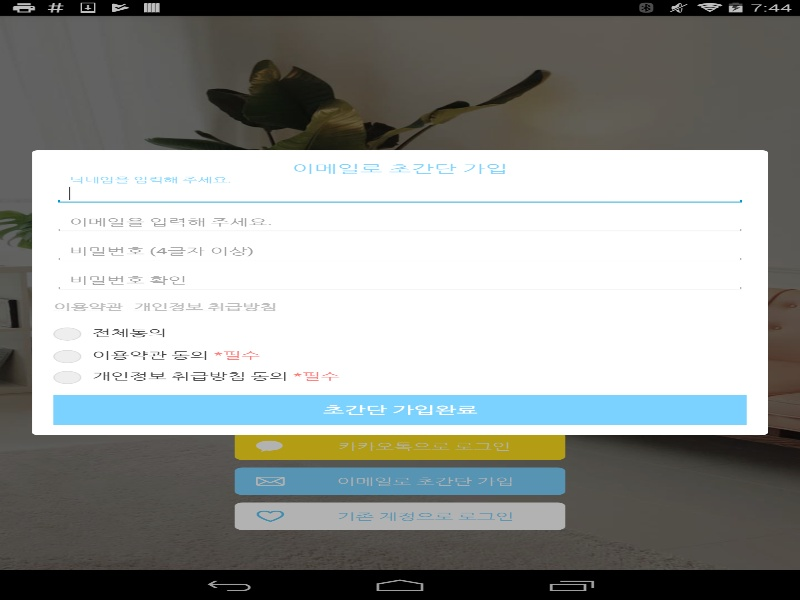Input: (53, 182, 746, 204), (53, 211, 746, 233), (53, 240, 746, 262), (53, 269, 746, 291)
